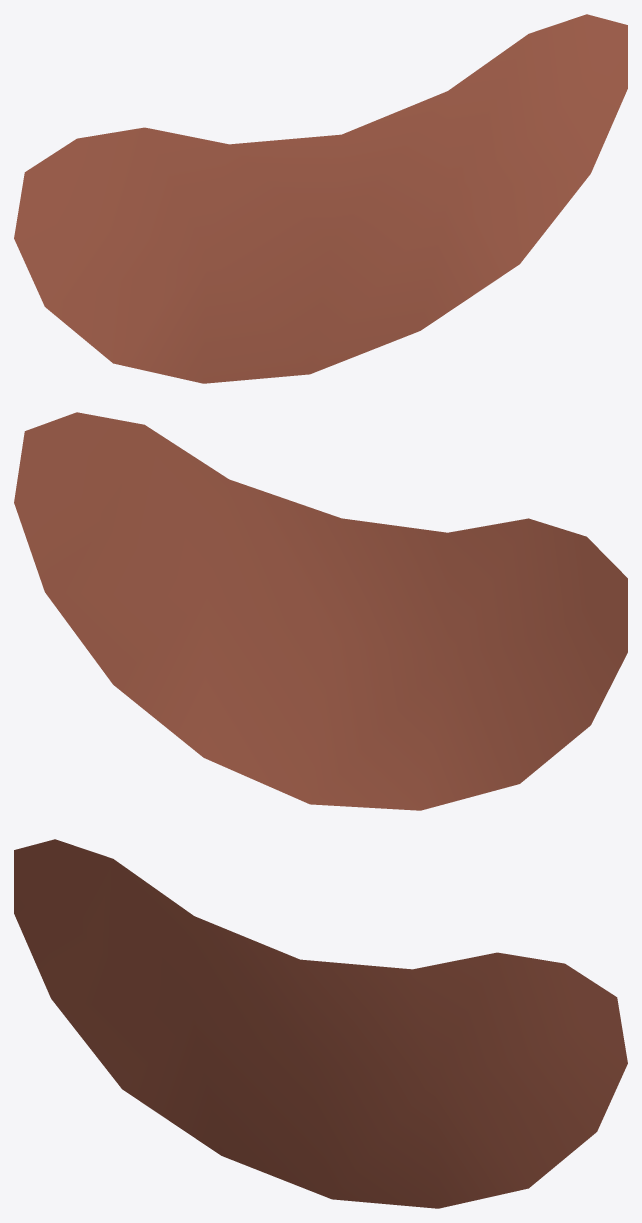
The model's file is Mouth_White_6.fbx.
The picture shows the model from 3 angles, top to bottom: view 1: azimuth 30°, elevation 25°; view 2: azimuth 150°, elevation 25°; view 3: azimuth 330°, elevation 25°; orthographic projection.
Visible parts, largest first — view 1: Mouth_White_6; view 2: Mouth_White_6; view 3: Mouth_White_6.
Part boxes in pixels (x1,y1,x2,y2): Mouth_White_6: (14, 14, 627, 383); Mouth_White_6: (14, 412, 627, 810); Mouth_White_6: (14, 839, 627, 1208).
Bounding box in the file's own units: 7.46 × 3.64 × 0.6651.
